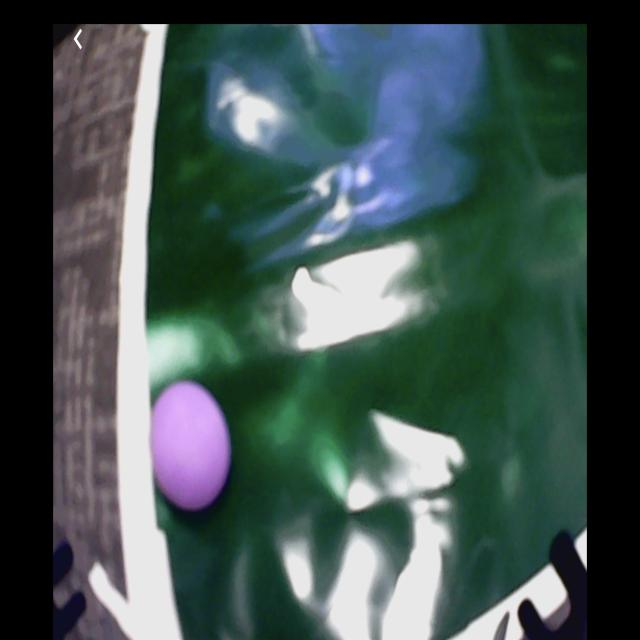ball: (152, 382, 234, 507)
